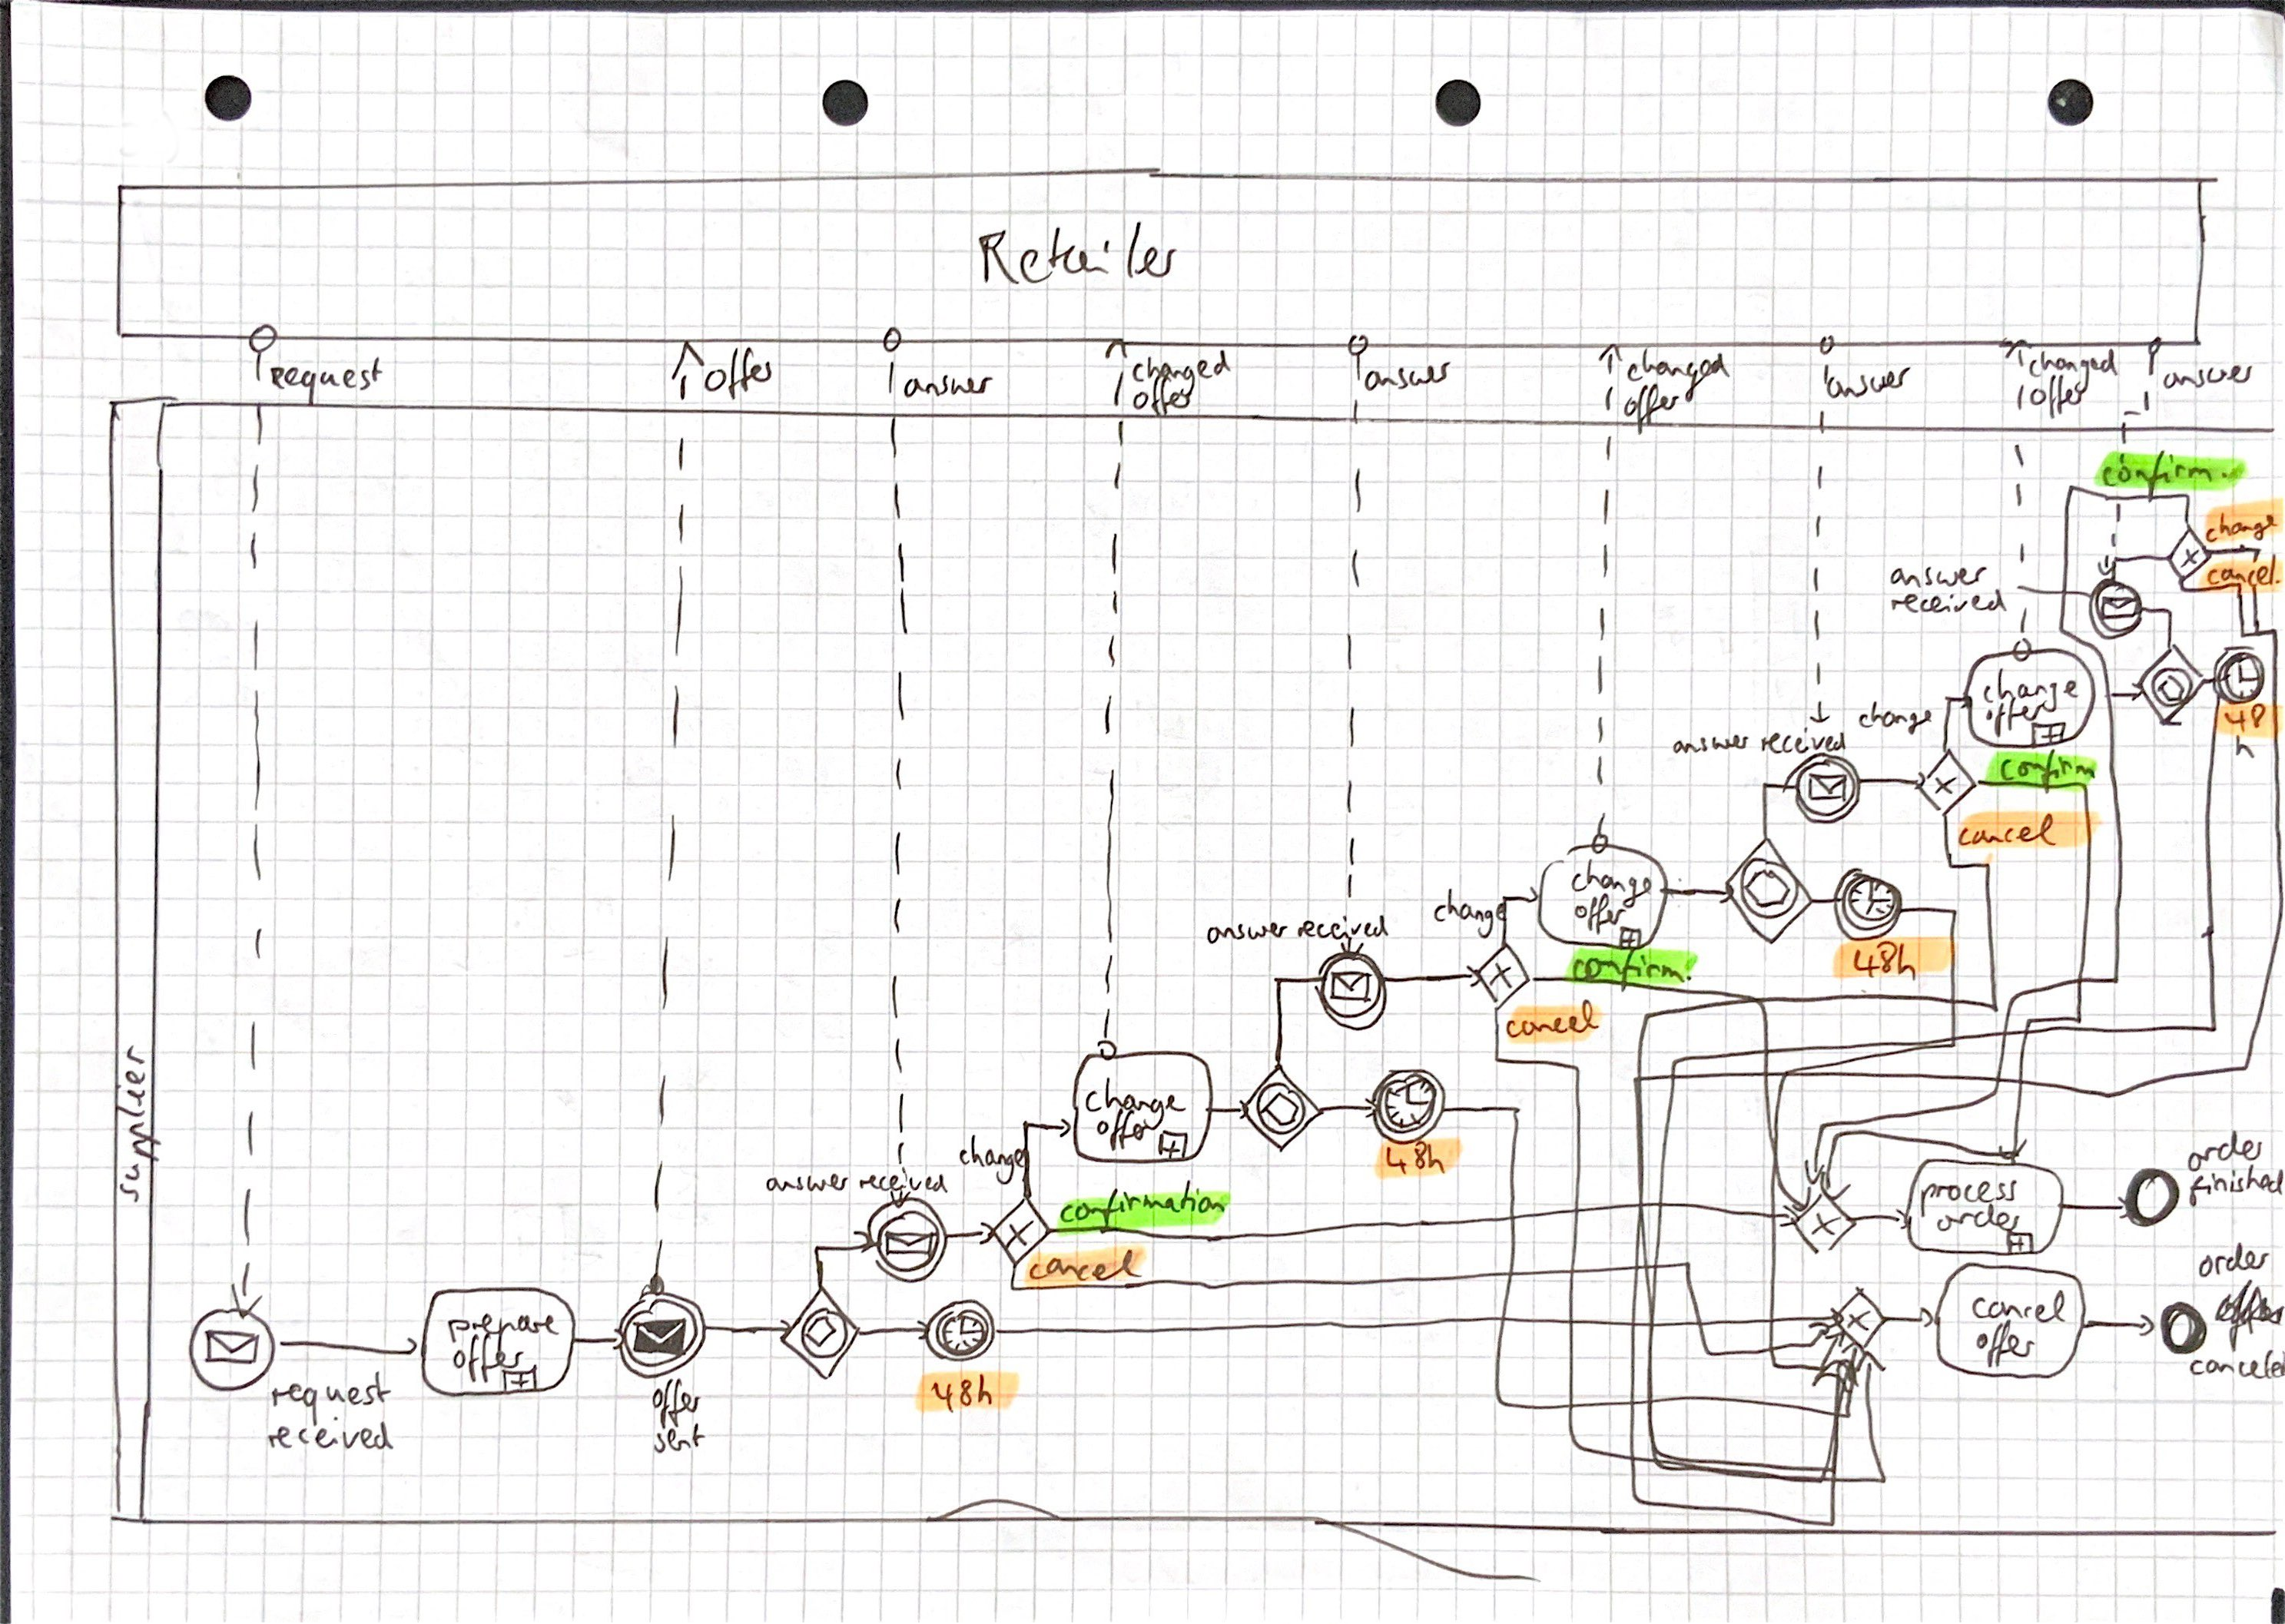48h: (1839, 940, 1918, 982), (1373, 1130, 1448, 1174), (2227, 705, 2269, 766), (939, 1374, 990, 1411)
Request: (265, 346, 390, 397)
Retailer: (974, 216, 1179, 297)
answer: (2164, 352, 2257, 399), (1828, 353, 1911, 406), (900, 364, 993, 404), (1360, 359, 1454, 397), (1195, 909, 1288, 947), (1888, 562, 1991, 592), (1666, 729, 1751, 761), (780, 1169, 826, 1200)
cancel: (1032, 1246, 1143, 1287), (1953, 817, 2058, 852), (1974, 1287, 2065, 1325), (1508, 1004, 1594, 1039)
cancel.: (2204, 557, 2280, 587)
canceled: (2187, 1353, 2285, 1383)
change: (1561, 854, 1659, 903), (1418, 889, 1506, 935), (953, 1135, 1026, 1179), (1090, 1088, 1178, 1123), (1851, 701, 1930, 740), (2199, 511, 2280, 547)
changed: (1619, 343, 1731, 387), (1125, 343, 1246, 383), (2030, 343, 2116, 376)
charge: (1979, 678, 2079, 707)
confirm: (2099, 445, 2215, 490), (1991, 747, 2099, 787)
confirm!: (1585, 954, 1686, 982)
confirmation: (1060, 1186, 1222, 1223)
finished: (2181, 1160, 2285, 1207)
offer: (698, 348, 784, 397), (1981, 687, 2064, 731), (645, 1373, 703, 1420), (1088, 1113, 1171, 1144), (2023, 376, 2086, 415), (1612, 387, 1680, 420), (1559, 896, 1626, 930), (1123, 385, 1202, 413), (439, 1343, 527, 1367), (1974, 1327, 2037, 1359)
order: (1933, 1206, 2023, 1234), (2195, 1134, 2260, 1165), (2202, 1244, 2252, 1276)
prepare: (443, 1306, 568, 1350)
process: (1912, 1172, 2023, 1214)
received: (265, 1415, 394, 1455), (1752, 722, 1856, 758), (1287, 910, 1387, 946), (1886, 589, 2006, 617), (851, 1176, 949, 1193)
request: (271, 1376, 385, 1415)
sent: (629, 1422, 722, 1457)
supplier: (112, 1049, 153, 1202)
